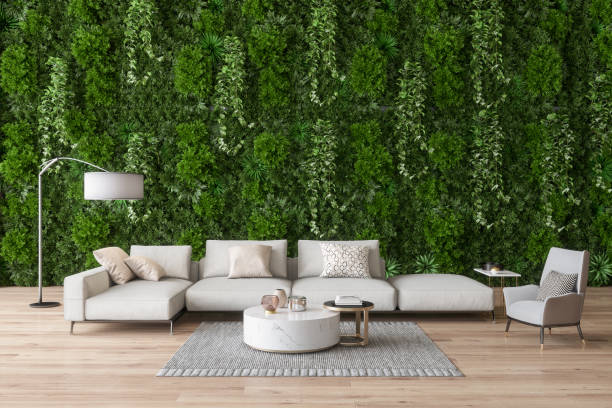chair: (502, 243, 592, 351)
floor lamp: (28, 154, 147, 310)
side table: (472, 264, 521, 289)
sofa: (62, 236, 497, 336)
table: (239, 302, 341, 355), (324, 293, 374, 347)
